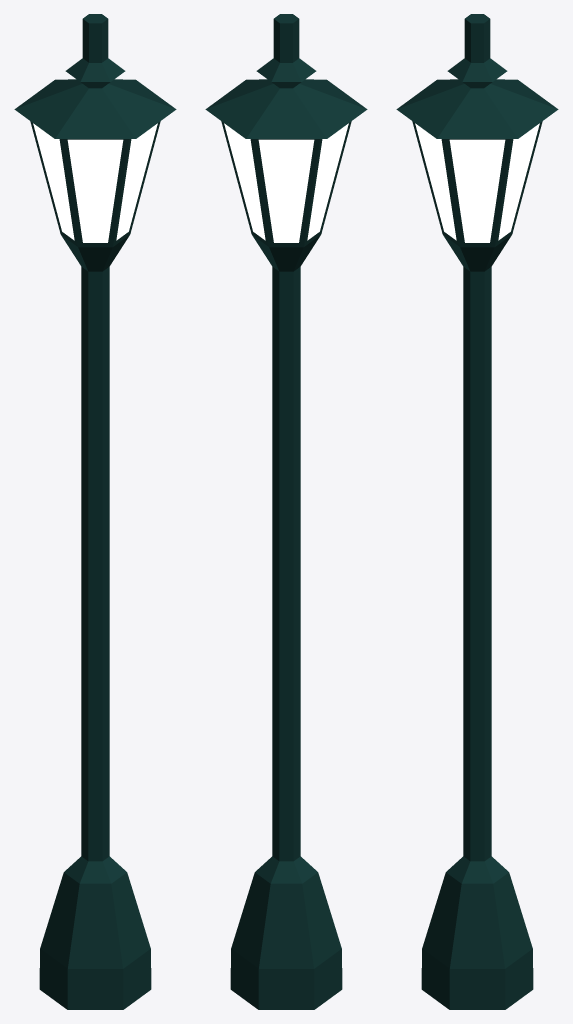
3 views of the same model, side by side, from view 1: azimuth 30°, elevation 25°; view 2: azimuth 150°, elevation 25°; view 3: azimuth 270°, elevation 25° (orthographic).
Visible parts, largest first — view 1: Cylinder_0; view 2: Cylinder_0; view 3: Cylinder_0.
Part boxes in pixels (x1=…): Cylinder_0: x1=14, y1=14, x2=176, y2=1009; Cylinder_0: x1=205, y1=14, x2=367, y2=1009; Cylinder_0: x1=396, y1=14, x2=558, y2=1009.
Bounding box in the file's own units: 0.6554 × 5 × 0.7568.
